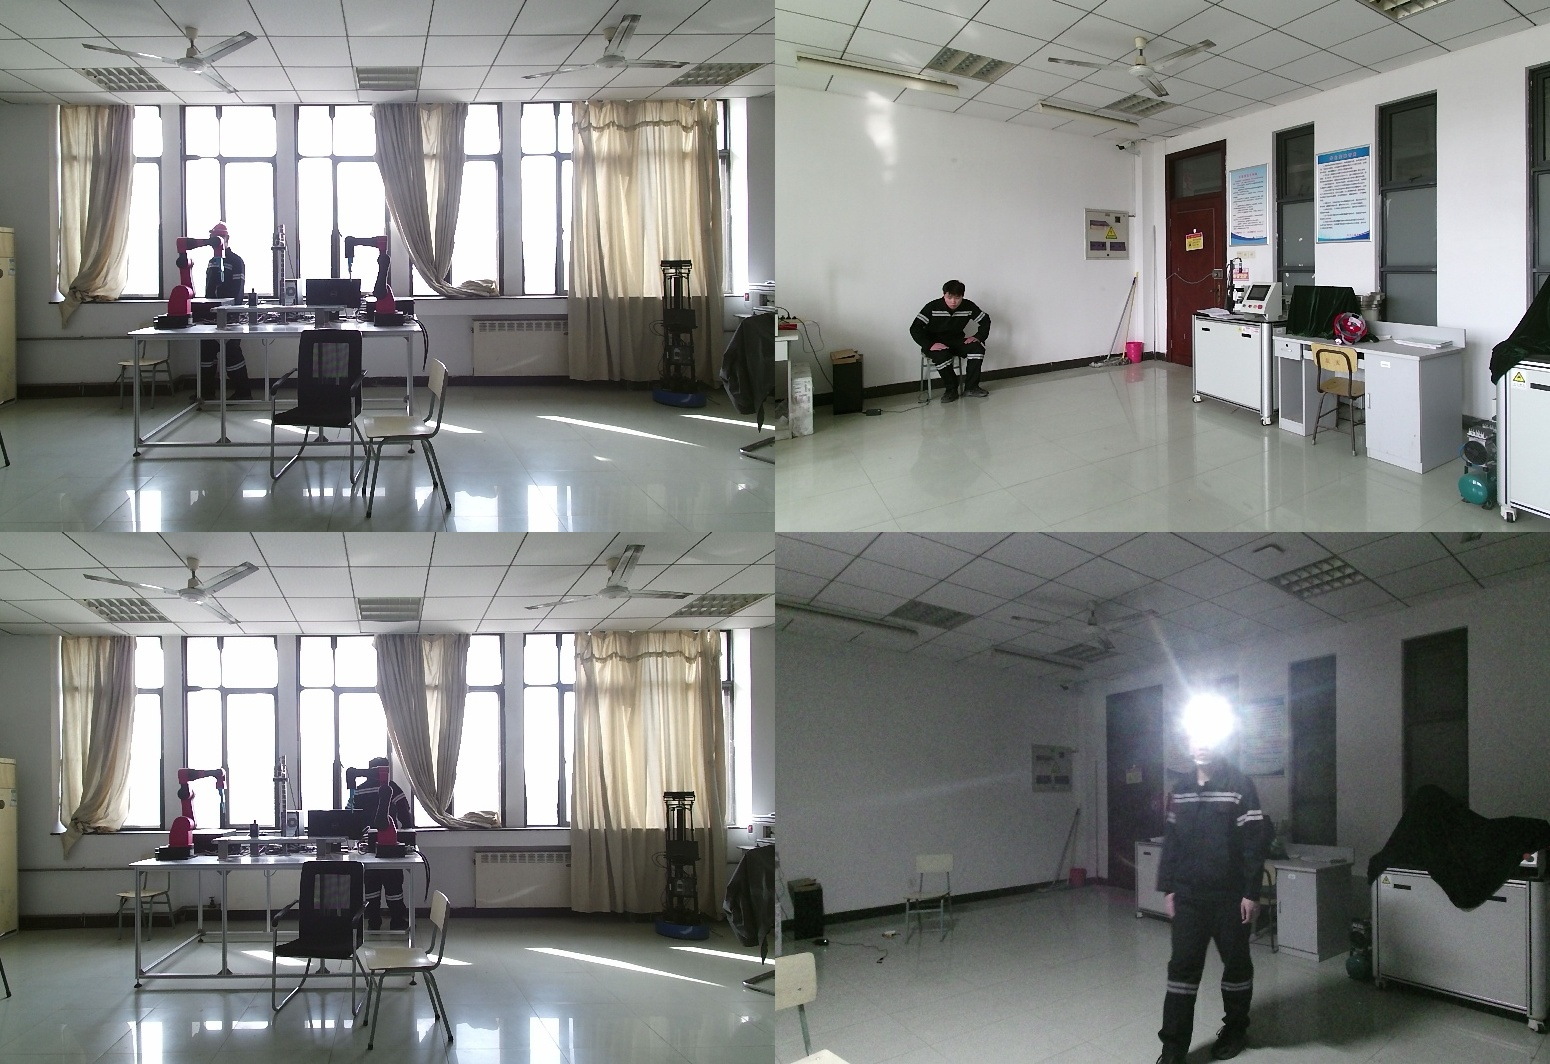person: (1144, 706, 1271, 1064), (345, 758, 418, 951), (190, 224, 255, 403), (908, 279, 990, 407)
